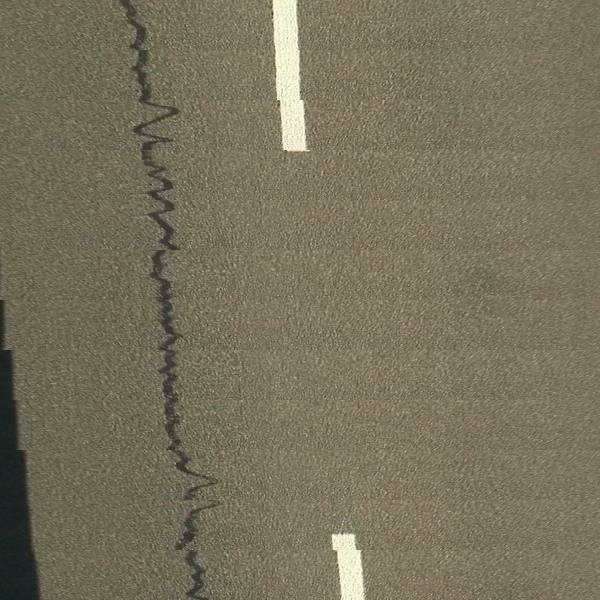road_damage: (115, 1, 232, 600)
